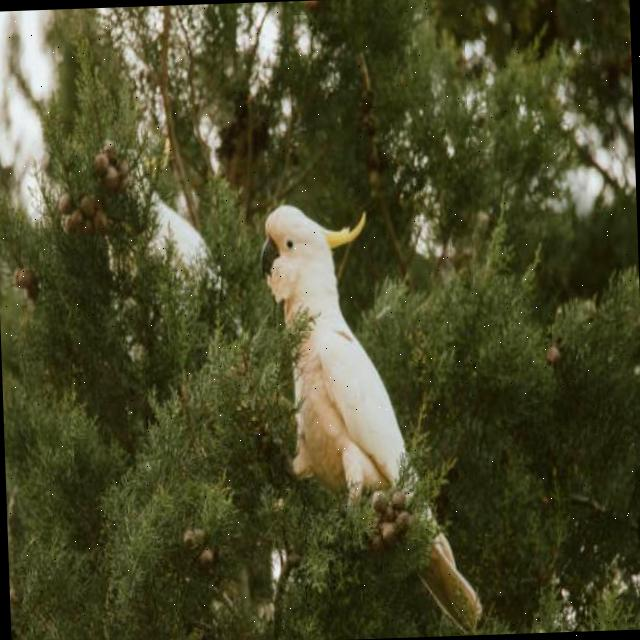Kakatua Putih: (239, 187, 491, 640)
